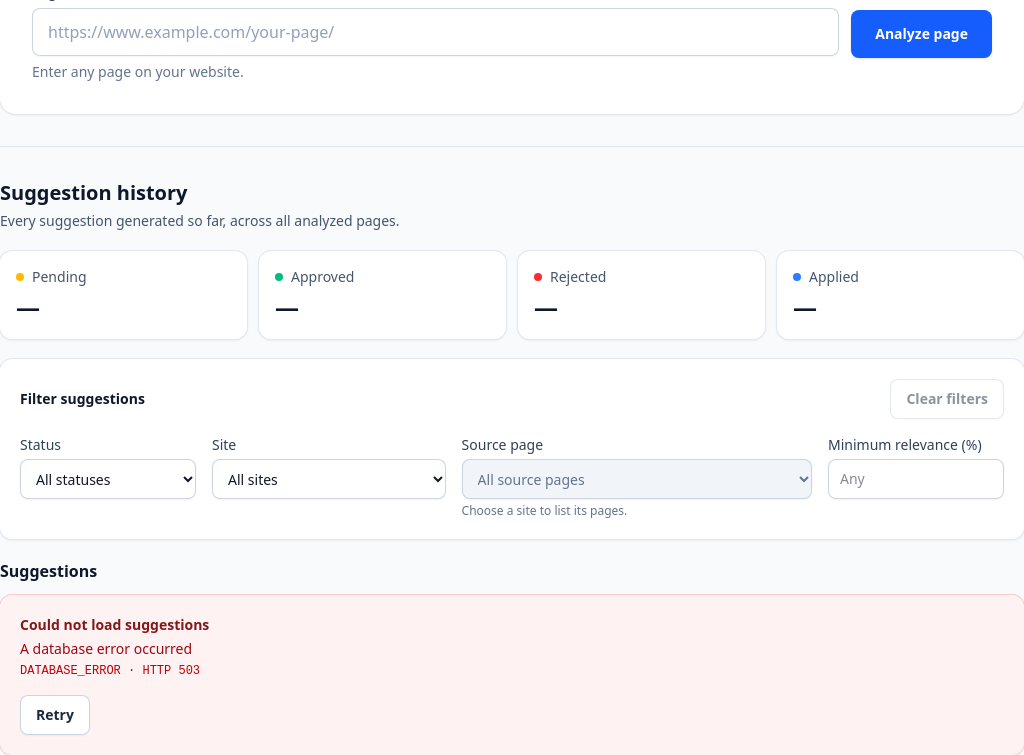
InterlinkPage › error state › shows the backend's message and code, and retries
This screenshot has width=1024, height=755.
(page scrolled)
Expected: the message shows "A database error occurred", [20,639,192,658]
Expected: the message shows "DATABASE_ERROR · HTTP 503", [0,595,1023,754]
Click the button "Retry" at (55, 715), box [20,695,90,735]
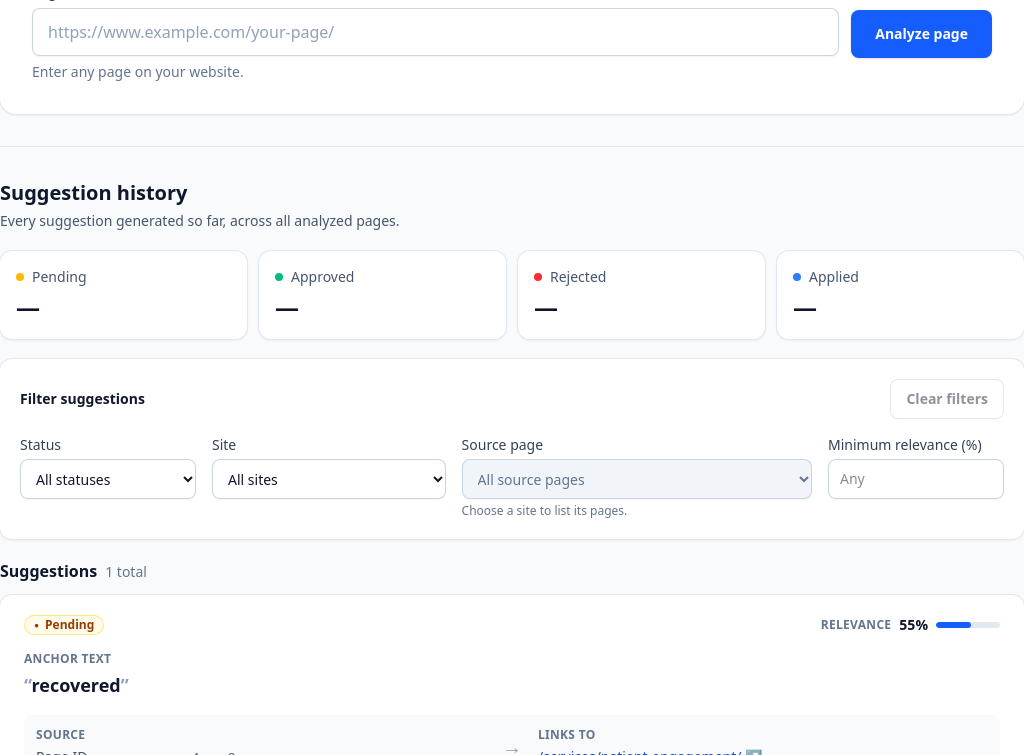
Expected: the heading "“recovered”" is shown, [24,673,129,697]
